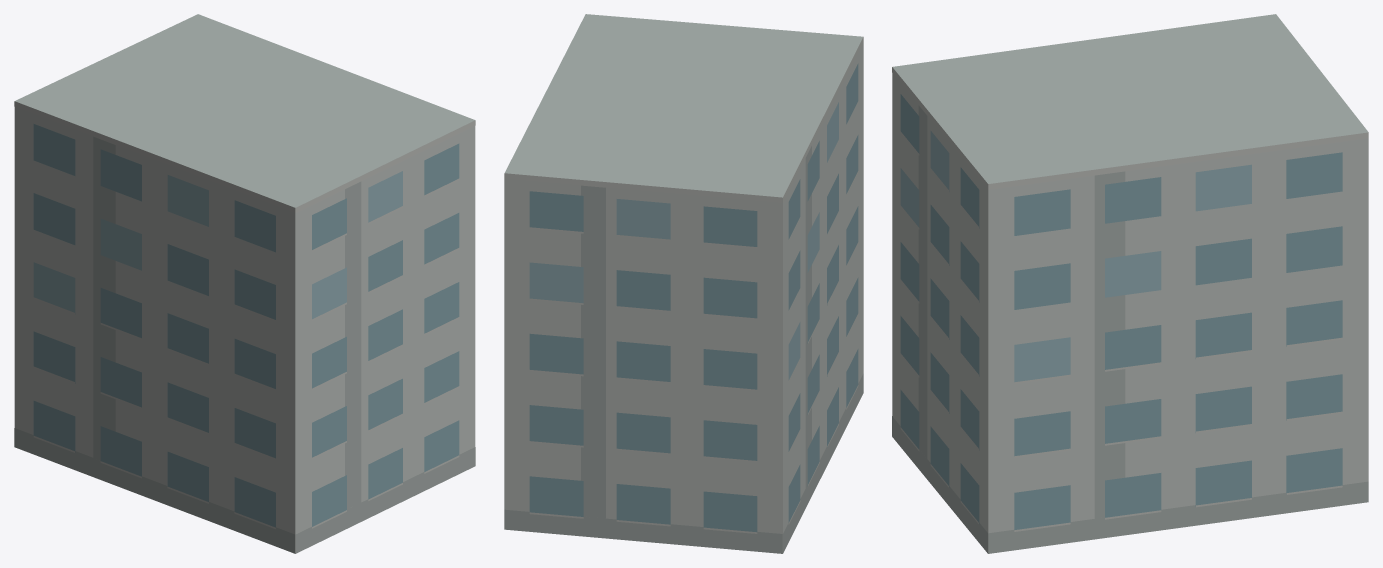
The model's file is survey-upis-32743952.glb.
The picture shows the model from 3 angles, left to right: view 1: azimuth 30°, elevation 25°; view 2: azimuth 150°, elevation 25°; view 3: azimuth 270°, elevation 25°; orthographic projection. The views are drawn at different scales.
Parts seen in each view (by area): view 1: survey-upis-32743952.tmp; view 2: survey-upis-32743952.tmp; view 3: survey-upis-32743952.tmp.
Part boxes in pixels (x1,y1,x2,y2): survey-upis-32743952.tmp: [14, 14, 475, 553]; survey-upis-32743952.tmp: [504, 14, 863, 553]; survey-upis-32743952.tmp: [892, 14, 1368, 553].
Bounding box in the file's own units: 15.06 × 15.25 × 17.82.
